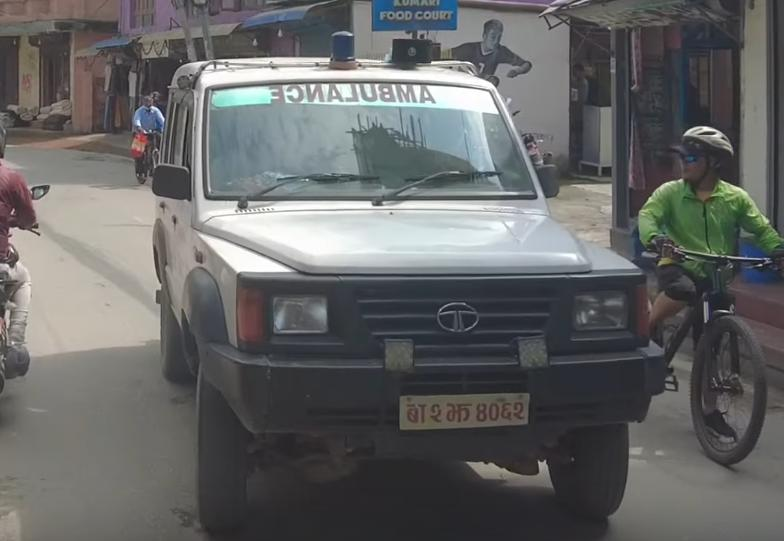ambulance: (137, 26, 671, 541)
